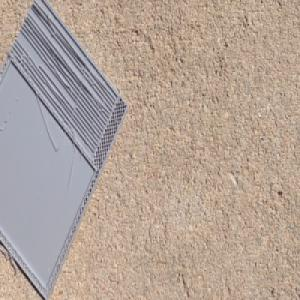PlasticPart: (0, 0, 129, 300)
